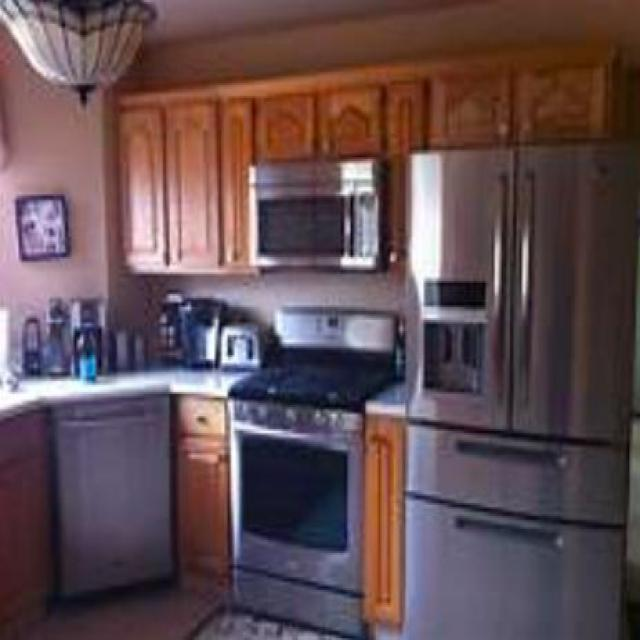dishwasher: (48, 388, 169, 610)
